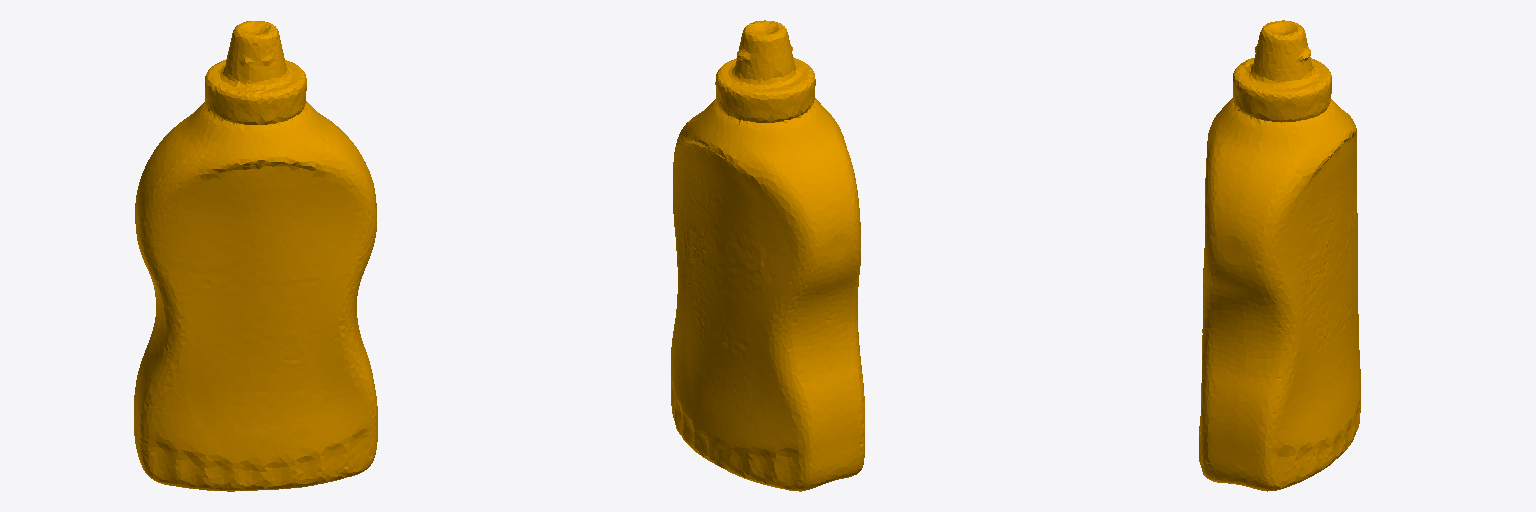
URDF robot description (mustard_bottle):
<robot name="mustard_bottle">
  <link name="object_root">
    <inertial>
      <origin xyz="-0.000282133876763684 0.000345299635458692 -0.022418037315176022" rpy="0 0 0" />
      <mass value="0.4751176391028019" />
      <inertia ixx="0.0013816695549878034" iyy="0.001526280804532065" izz="0.0004248526844176204" ixy="7.83359695669193e-05" ixz="-2.4143886175687745e-05" iyz="-8.006930958980179e-06" />
    </inertial>
    <collision name="right_object_0">
      <geometry>
        <mesh filename="right_object_0.obj" />
      </geometry>
    </collision>
    <collision name="right_object_1">
      <geometry>
        <mesh filename="right_object_1.obj" />
      </geometry>
    </collision>
    <collision name="right_object_10">
      <geometry>
        <mesh filename="right_object_10.obj" />
      </geometry>
    </collision>
    <collision name="right_object_11">
      <geometry>
        <mesh filename="right_object_11.obj" />
      </geometry>
    </collision>
    <collision name="right_object_12">
      <geometry>
        <mesh filename="right_object_12.obj" />
      </geometry>
    </collision>
    <collision name="right_object_2">
      <geometry>
        <mesh filename="right_object_2.obj" />
      </geometry>
    </collision>
    <collision name="right_object_3">
      <geometry>
        <mesh filename="right_object_3.obj" />
      </geometry>
    </collision>
    <collision name="right_object_4">
      <geometry>
        <mesh filename="right_object_4.obj" />
      </geometry>
    </collision>
    <collision name="right_object_5">
      <geometry>
        <mesh filename="right_object_5.obj" />
      </geometry>
    </collision>
    <collision name="right_object_6">
      <geometry>
        <mesh filename="right_object_6.obj" />
      </geometry>
    </collision>
    <collision name="right_object_7">
      <geometry>
        <mesh filename="right_object_7.obj" />
      </geometry>
    </collision>
    <collision name="right_object_8">
      <geometry>
        <mesh filename="right_object_8.obj" />
      </geometry>
    </collision>
    <collision name="right_object_9">
      <geometry>
        <mesh filename="right_object_9.obj" />
      </geometry>
    </collision>
    <visual name="right_object_visual">
      <geometry>
        <mesh filename="right_object_visual.obj" />
      </geometry>
    </visual>
  </link>
</robot>

--- What the picture shows (computed from the rendered views, not written in the file) ---
3 views of the same robot in one strip: view 1: azimuth 30°, elevation 25°; view 2: azimuth 150°, elevation 25°; view 3: azimuth 270°, elevation 25° (orthographic).
Robot: mustard_bottle — 1 links, 0 joints (none); root link object_root; default pose: every joint at zero.
Links seen in each view (by area): view 1: object_root; view 2: object_root; view 3: object_root.
Boxes of the visible links, bbox=[...] form: object_root: bbox=[134, 21, 377, 491]; object_root: bbox=[671, 20, 864, 491]; object_root: bbox=[1199, 20, 1360, 491].
Size in the robot's own frame: 0.0972 by 0.0666 by 0.1914 metres.
1 mesh visuals loaded from 1 distinct referenced files (1 OBJ).
